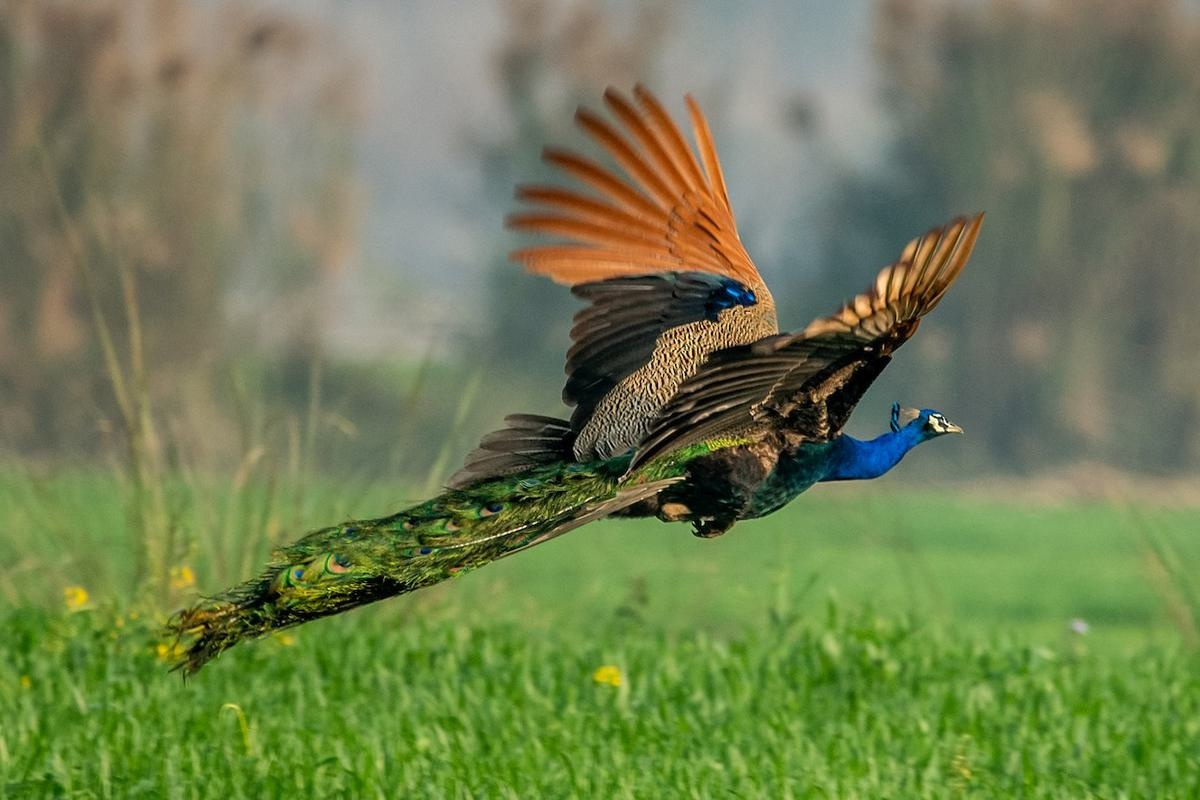peacock: (171, 77, 991, 678)
